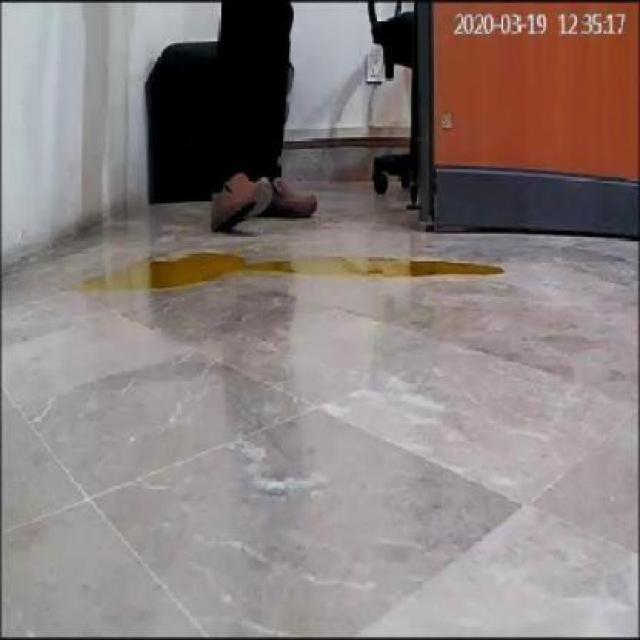spillage: (80, 254, 506, 290)
